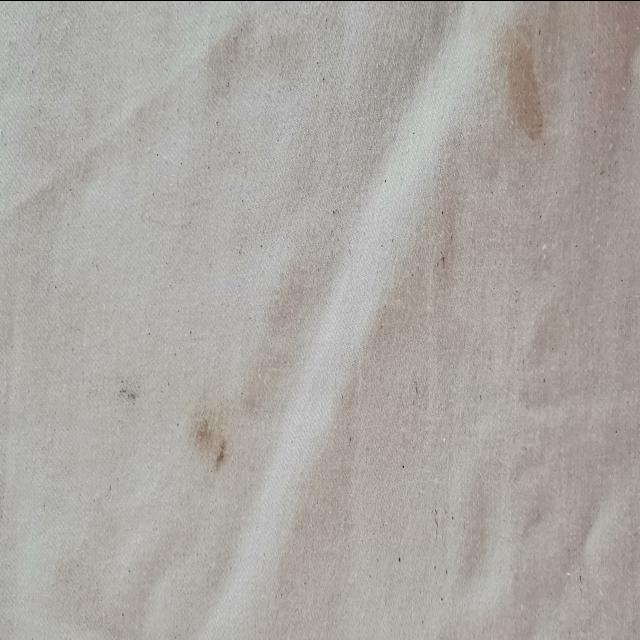taaaches: (184, 399, 258, 487), (496, 34, 546, 152)
